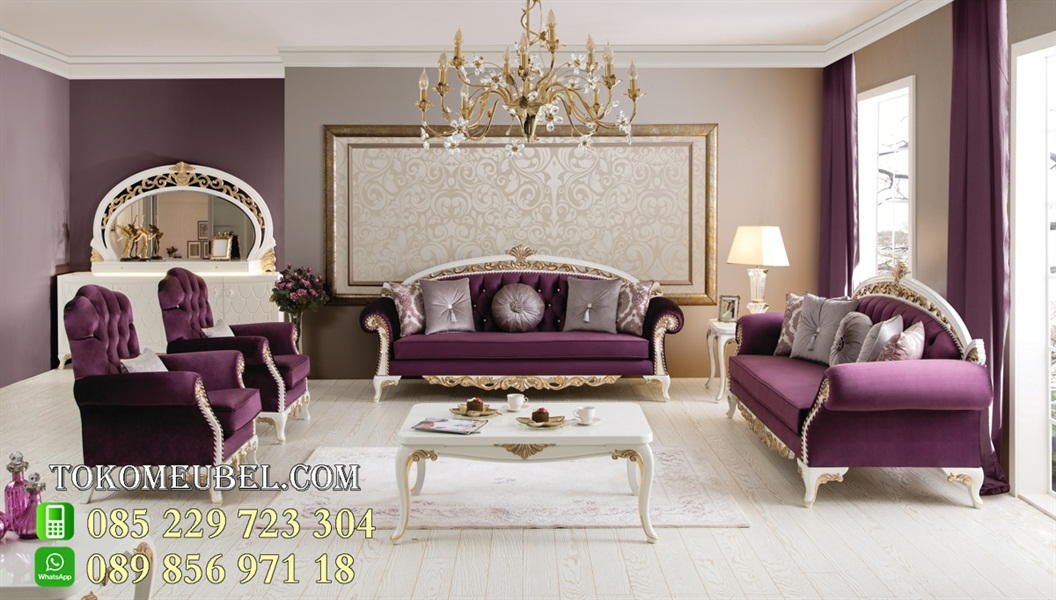Carving Table: (388, 393, 665, 537)
